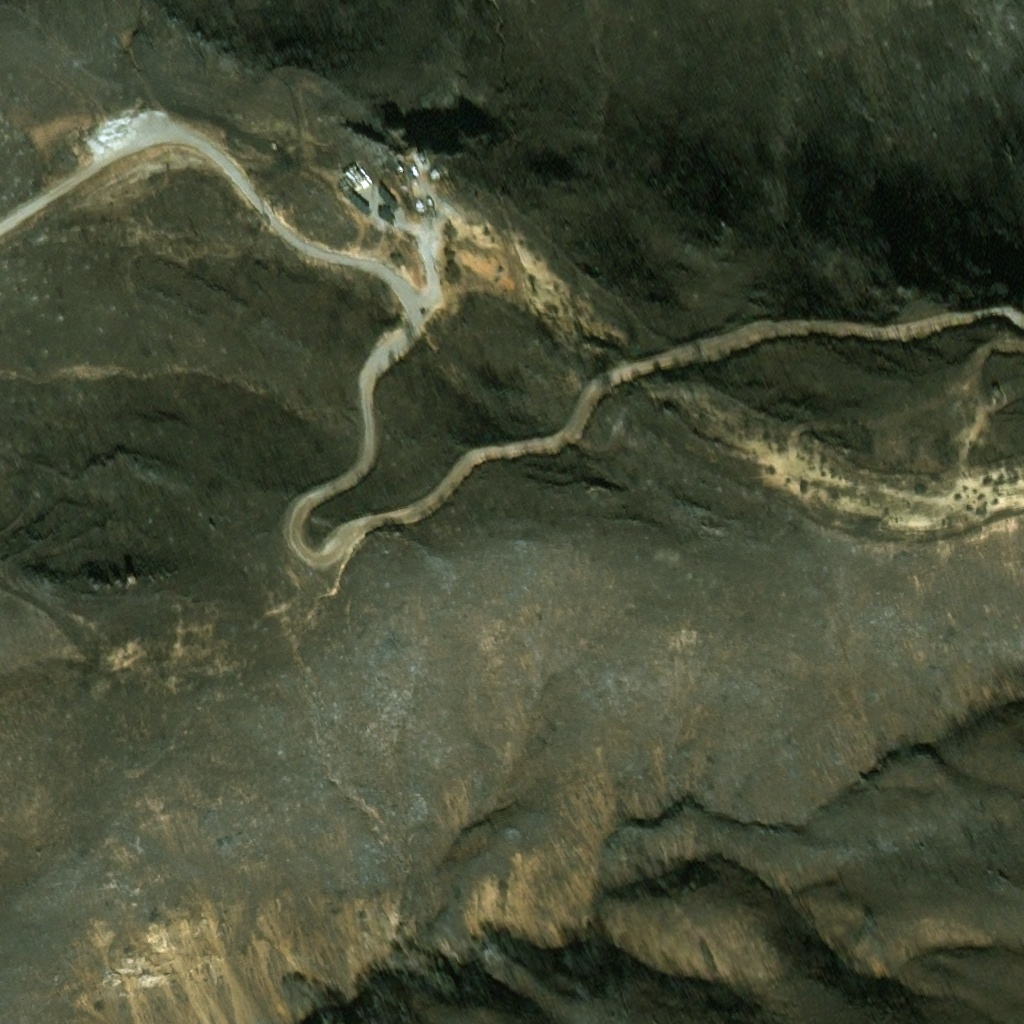3 destroyed: (337, 163, 367, 195), (376, 182, 397, 205), (350, 192, 369, 212)
